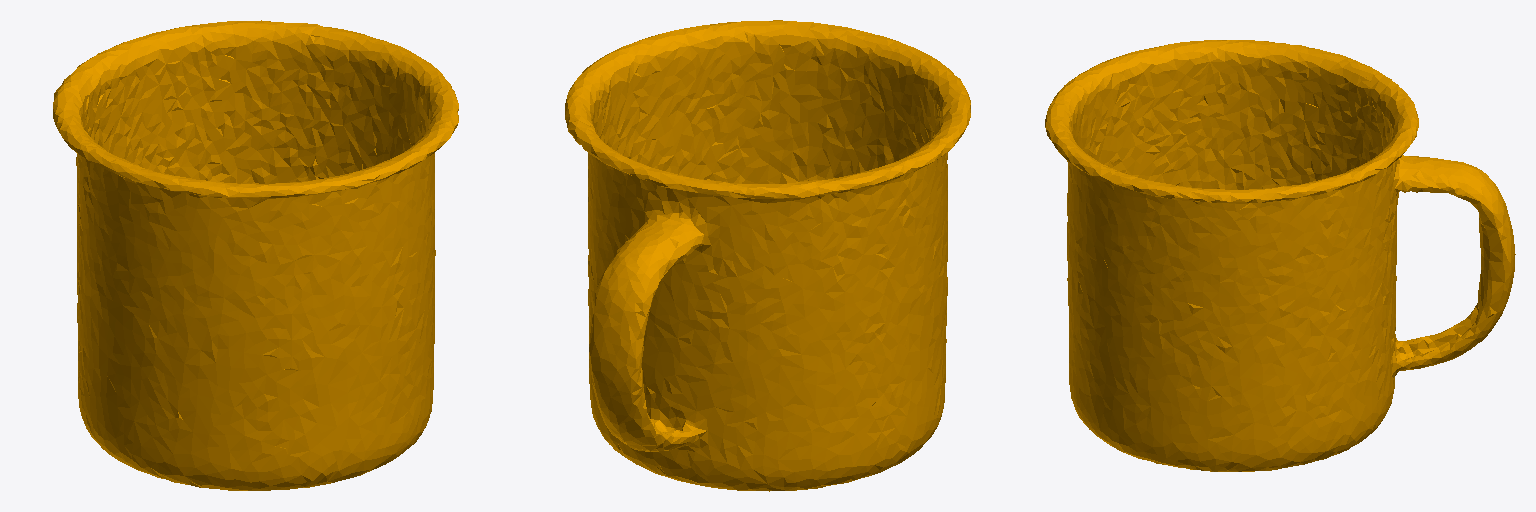
The robot description file, URDF, robot "model.urdf":
<?xml version="1.0" ?>
<robot name="model.urdf">
<link name="ycb">
<visual>
<origin rpy="0 0 0" xyz="0 0 0"/>
<geometry>
<mesh filename="meshes/textured_modified.obj" scale="1 1 1"/>
</geometry>
</visual>
<collision>
<origin rpy="0 0 0" xyz="0 0 0"/>
<geometry>
<mesh filename="meshes/textured_modified.obj" scale="1 1 1"/>
</geometry>
</collision>
<inertial>
<origin rpy="0 0 0" xyz="0 0 0"/>
       <mass value="0.118"/>
<inertia ixx="1" ixy="0" ixz="0" iyy="1" iyz="0" izz="1"/>
</inertial>
<contact>
<lateral_friction value="0.5"/>
<rolling_friction value="0.0"/>
<contact_cfm value="0.0"/>
<contact_erp value="1.0"/>
</contact>
</link>
</robot>

--- What the picture shows (computed from the rendered views, not written in the file) ---
The picture shows the robot from 3 angles, left to right: view 1: azimuth 30°, elevation 25°; view 2: azimuth 150°, elevation 25°; view 3: azimuth 270°, elevation 25°; orthographic projection.
Robot: model.urdf — 1 links, 0 joints (none); root link ycb; default pose: every joint at zero.
Links seen in each view (by area): view 1: ycb; view 2: ycb; view 3: ycb.
Link boxes in pixels (<box>): ycb: <box>53,20,458,490</box>; ycb: <box>565,20,970,491</box>; ycb: <box>1045,40,1515,471</box>.
Size in the robot's own frame: 0.0931 by 0.117 by 0.0813 metres.
Meshes: 1 distinct files referenced, 1 mesh visuals loaded (1 OBJ).